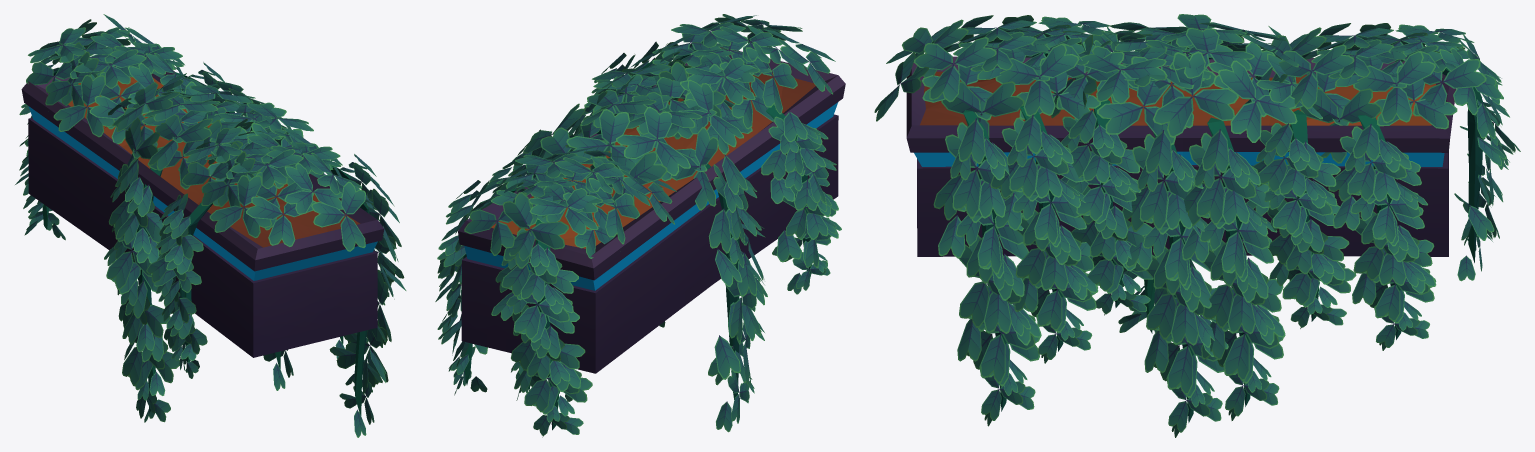
File: Garden_LongPlanter_Vines.fbx
3 renders of one model, left to right at view 1: azimuth 30°, elevation 25°; view 2: azimuth 150°, elevation 25°; view 3: azimuth 270°, elevation 25°, orthographic. The views are drawn at different scales.
Parts seen in each view (by area): view 1: Planter.006; view 2: Planter.006; view 3: Planter.006.
Boxes of the visible parts, <box> form: Planter.006: <box>15,14,406,437</box>; Planter.006: <box>435,14,845,437</box>; Planter.006: <box>874,14,1520,437</box>.
Size of the model in its own units: 108 by 140 by 224.
